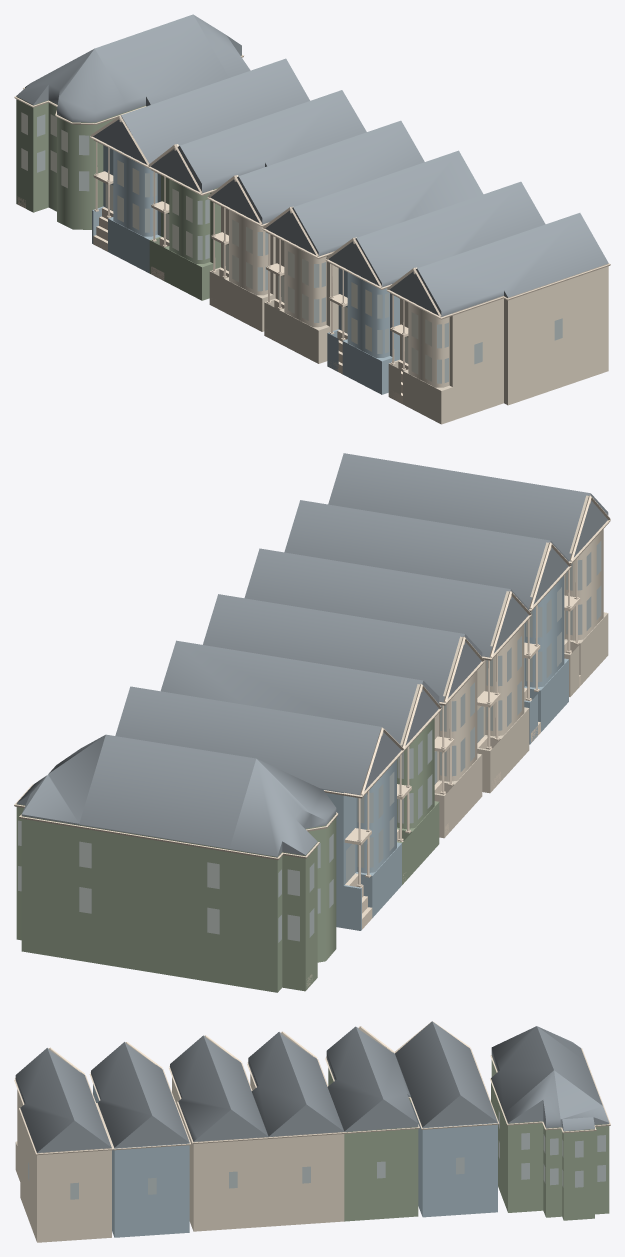
3 renders of one model, top to bottom at view 1: azimuth 30°, elevation 25°; view 2: azimuth 150°, elevation 25°; view 3: azimuth 270°, elevation 25°, orthographic. The views are drawn at different scales.
Parts seen in each view (by area): view 1: roof, stone, metal, window, glass, trim; view 2: roof, metal, stone, window, glass, trim; view 3: roof, stone, metal, glass, trim, window.
Boxes of the visible parts, <box> form: roof: <box>16,14,608,316</box>; stone: <box>162,144,608,424</box>; metal: <box>16,55,241,300</box>; window: <box>21,112,562,383</box>; glass: <box>92,145,399,394</box>; trim: <box>14,55,610,404</box>; roof: <box>16,453,608,856</box>; metal: <box>16,718,439,992</box>; stone: <box>400,495,608,838</box>; window: <box>18,541,601,942</box>; glass: <box>322,575,568,930</box>; trim: <box>14,495,610,986</box>; roof: <box>15,1021,609,1152</box>; stone: <box>15,1027,392,1242</box>; metal: <box>328,1056,609,1221</box>; glass: <box>93,1080,497,1237</box>; trim: <box>14,1021,610,1155</box>; window: <box>28,1110,605,1199</box>.
Size of the model in its own units: 24.16 by 13 by 54.26.
